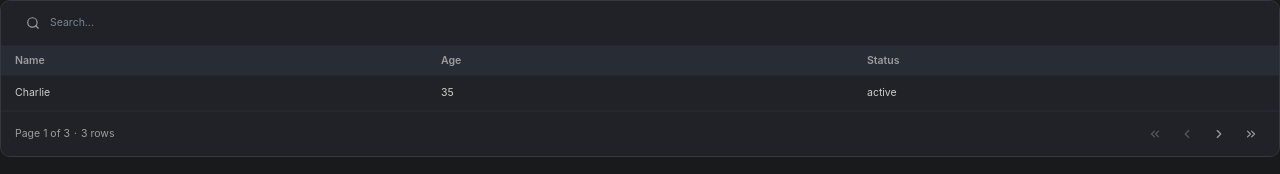
Scenario: stable table controller reactivity › filters and restores visible rows and page controls through the toolbar
Type "Bob" into the field with placeholder "Search..." at (162, 23), box [50,16,274,30]
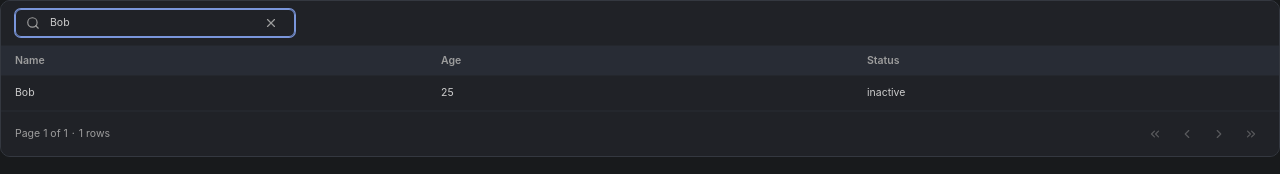
Expected: the cell "Bob" is shown, [1,76,427,111]
Expected: the text "Charlie" is gone
Expected: the text "Page 1 of 1" is shown, [15,127,68,140]
Clear the field with placeholder "Search..." at (149, 23), box [50,16,248,30]
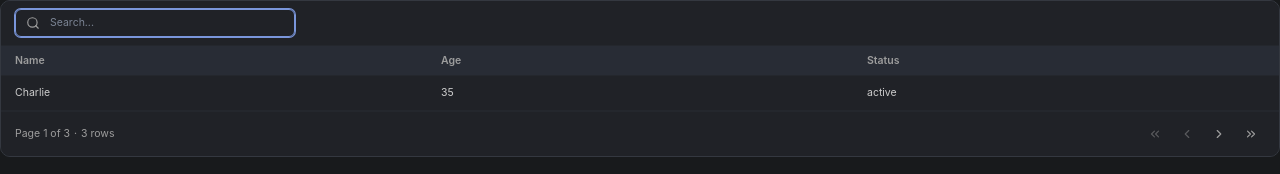
Expected: the cell "Charlie" is shown, [1,76,427,111]
Expected: the text "Bob" is gone
Expected: the text "Page 1 of 3" is shown, [15,127,70,140]
